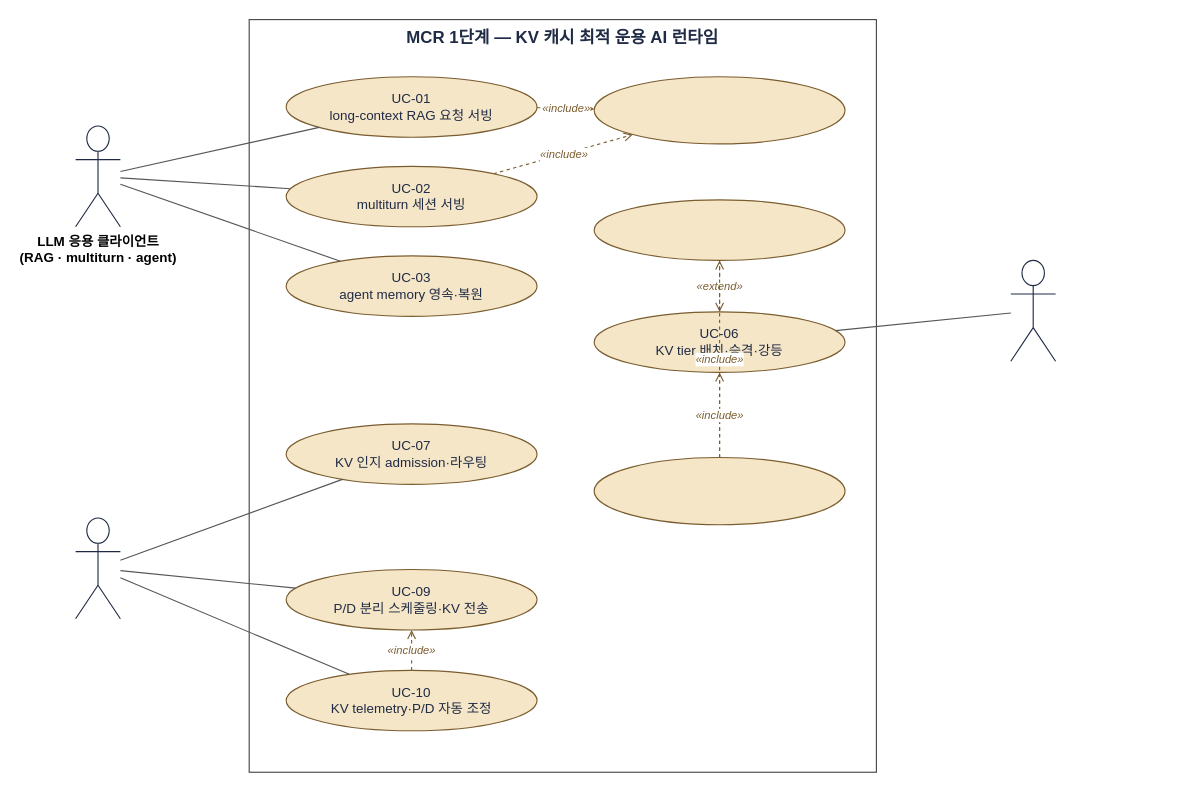
The diagram is 1187 pixels wide and 792 high, and some of its shapes have lost their labels. The shapes that lost their labels are listed below. From the top down, each one's box as (x1, y1, x2, y2) in pixels, then its label:
(593, 76, 845, 144): UC-04 KV 재사용 판정·복원 (복원 vs 재계산)
(593, 199, 845, 260): UC-05 KV 압축·복원 (요청별 차등)
(1010, 259, 1056, 361): 메모리 tier (HBM · DRAM · SSD — 2단계: 자사 디바이스)
(593, 456, 845, 525): UC-08 메모리 압박 대응 (압축/강등/축출 선택)
(74, 517, 120, 619): 운영자 (SRE)
